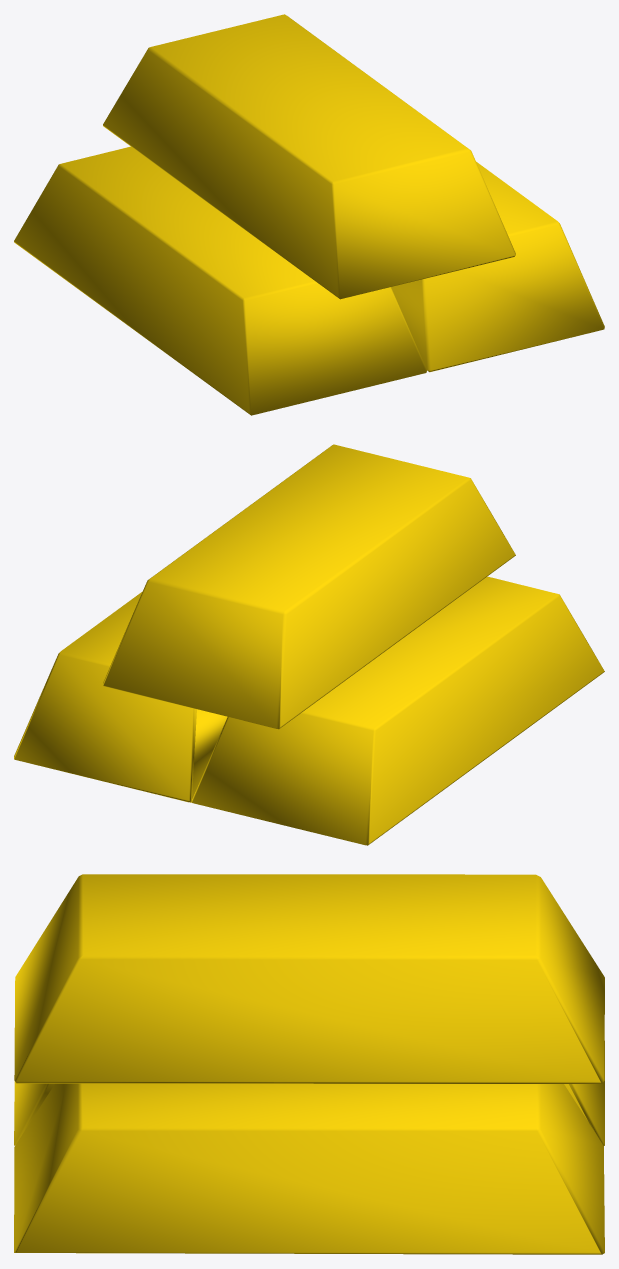
The model's file is gold_bar.fbx.
The picture shows the model from 3 angles, top to bottom: view 1: azimuth 30°, elevation 25°; view 2: azimuth 150°, elevation 25°; view 3: azimuth 270°, elevation 25°; orthographic projection. The views are drawn at different scales.
Parts seen in each view (by area): view 1: gold_bar; view 2: gold_bar; view 3: gold_bar.
Part boxes in pixels (bbox=[...]): gold_bar: bbox=[14, 14, 604, 415]; gold_bar: bbox=[14, 444, 604, 845]; gold_bar: bbox=[14, 874, 604, 1254].
Bounding box in the file's own units: 14.14 × 7.17 × 16.44.
